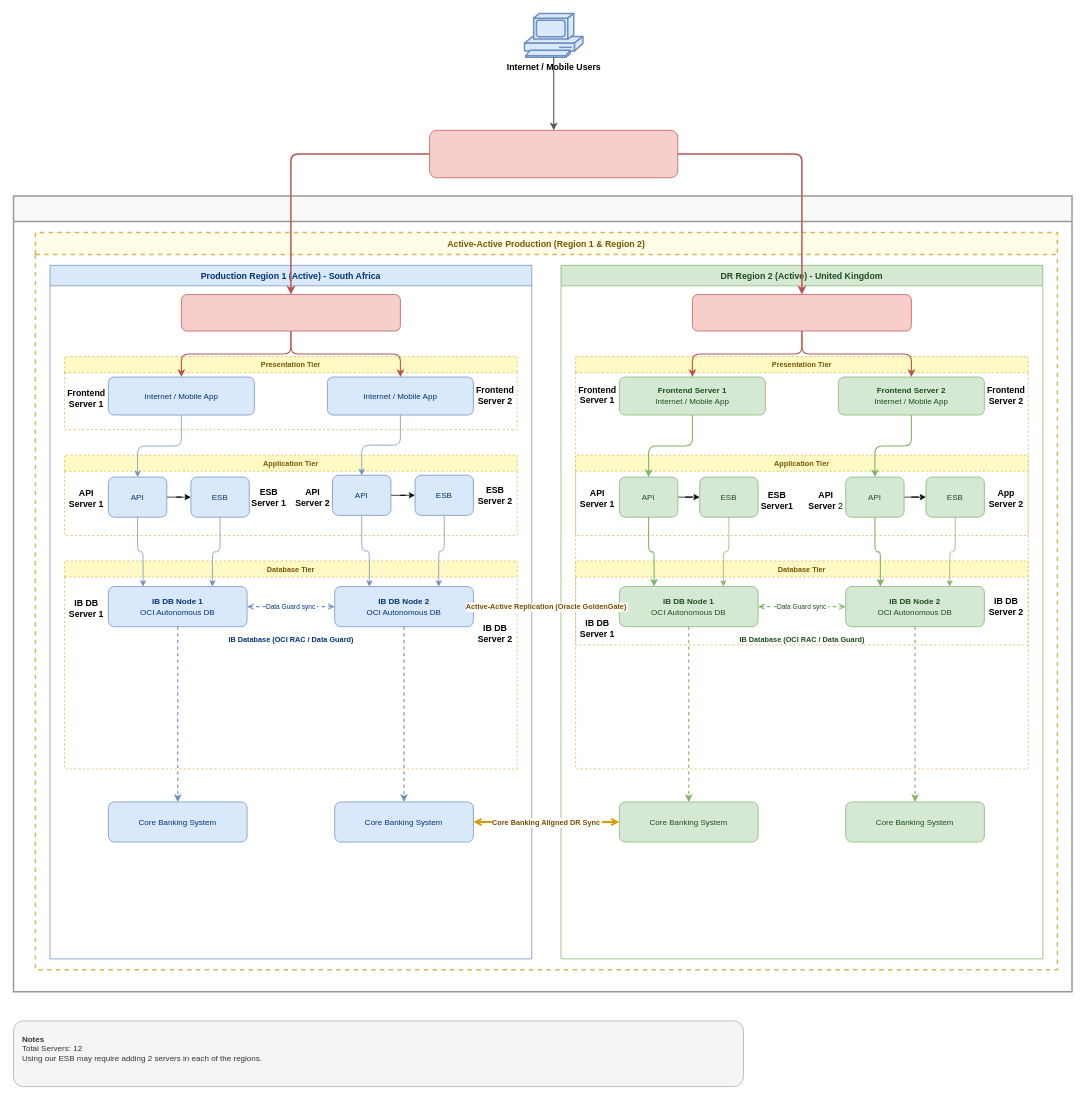
The diagram is 1085 pixels wide and 1099 high, and some of its shapes have lost their labels. The centre of each missing label's shape, as x and y in pixels:
"OCI DNS Traffic Management Failover policy → DR on outage" goes at (553,154).
"Regional Load Balancer OCI LB — distributes within Region 1" goes at (290,312).
"Regional Load Balancer OCI LB — distributes within Region 2" goes at (801,312).
